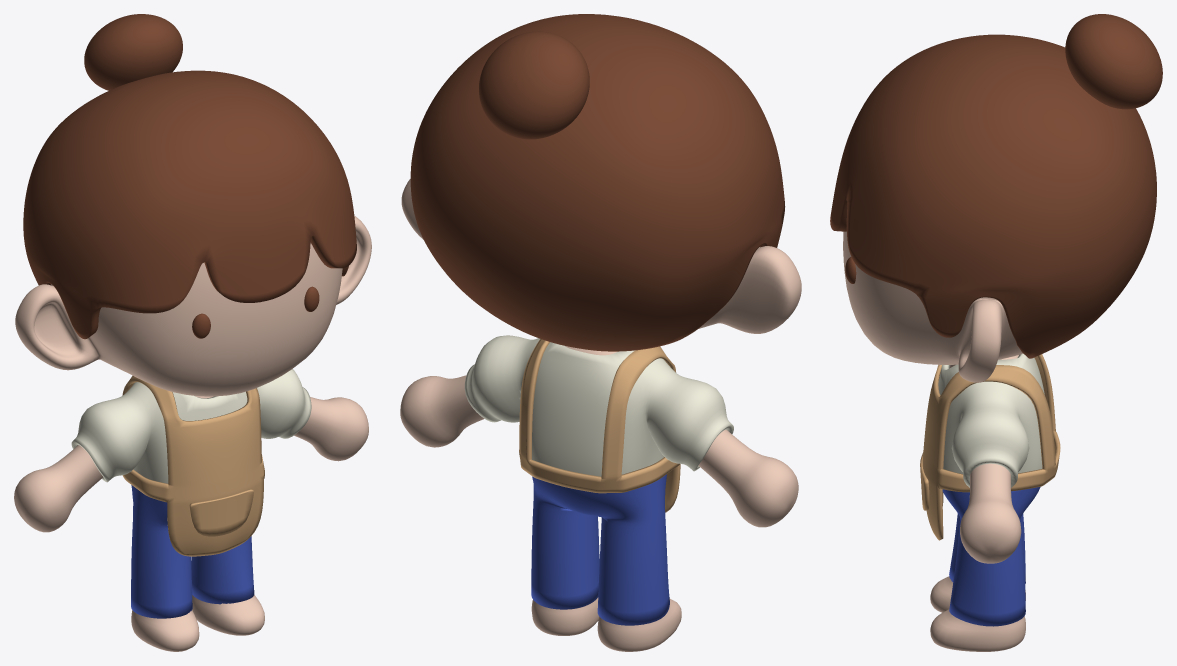
Rendered from 240718_character_test3.fbx.
3 renders of one model, left to right at view 1: azimuth 30°, elevation 25°; view 2: azimuth 150°, elevation 25°; view 3: azimuth 270°, elevation 25°, orthographic. The views are drawn at different scales.
Visible parts, largest first — view 1: Hair, Head, Apron, Body, T, Pants, Hair_2, Apron_2, Eye; view 2: Hair, T, Pants, Body, Hair_2, Apron, Head; view 3: Hair, Head, T, Body, Apron, Hair_2, Pants.
Boxes of the visible parts, x1,y1,x2,y2 form: Hair: [23, 70, 356, 339]; Head: [15, 216, 371, 396]; Apron: [122, 375, 264, 556]; Body: [14, 396, 368, 651]; T: [71, 369, 311, 483]; Pants: [131, 485, 254, 618]; Hair_2: [84, 14, 182, 90]; Apron_2: [189, 489, 253, 536]; Eye: [192, 286, 319, 338]; Hair: [410, 14, 785, 351]; T: [464, 335, 733, 476]; Pants: [531, 474, 669, 625]; Body: [400, 346, 798, 651]; Hair_2: [479, 31, 589, 139]; Apron: [519, 339, 680, 512]; Head: [401, 179, 801, 333]; Hair: [830, 34, 1156, 358]; Head: [843, 231, 1022, 382]; T: [938, 353, 1044, 487]; Body: [930, 355, 1025, 651]; Apron: [922, 354, 1060, 540]; Hair_2: [1065, 14, 1162, 109]; Pants: [942, 487, 1040, 626].
Size of the model in its own units: 187 by 290 by 144.
